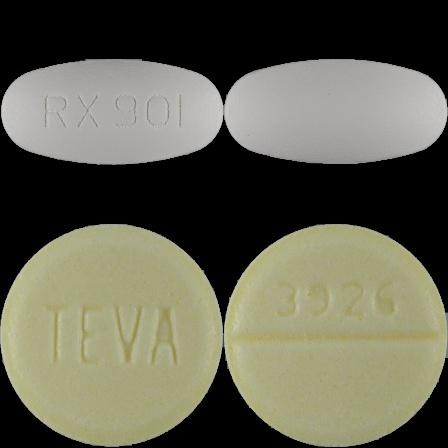63629-1514: (0, 0, 224, 224)
